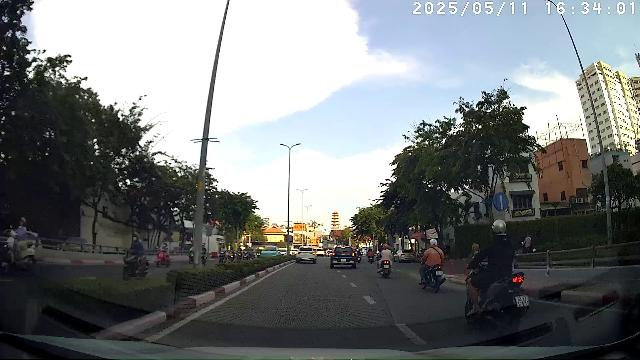301a-cac-xe-chi-duoc-di-thang: (492, 192, 508, 212)
